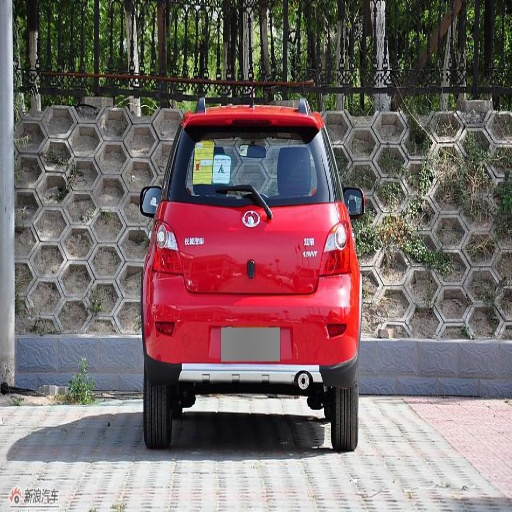back_bumper: (148, 251, 356, 387)
trunk: (155, 202, 343, 297)
